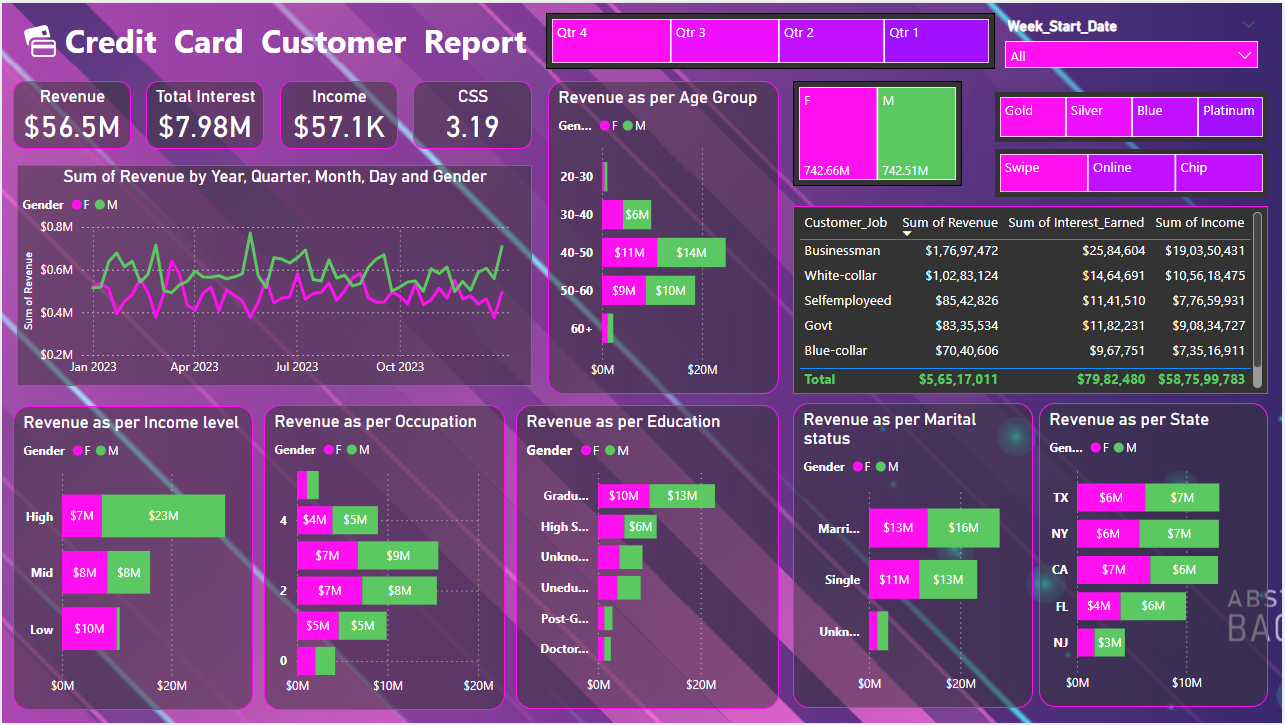

Layout of this report page (visuals, bound fields, positions):
{"tool":"powerbi","page":{"name":"my_cc_customer","canvas":[1280,720],"ordinal":4},"visuals":[{"type":"textbox","box":[10.6,9.8,519.6,55.9],"z":0},{"type":"barChart","title":"Revenue as per Income level","fields":{"Category":["cust_detail.Income_Group"],"Y":["Sum(cc_detail.Revenue)"],"Series":["cust_detail.Gender"]},"box":[11,403.1,240.4,304.3],"z":1000},{"type":"tableEx","fields":{"Values":["cust_detail.Customer_Job","Sum(cc_detail.Revenue)","Sum(cc_detail.Interest_Earned)","Sum(cust_detail.Income)"]},"box":[791.1,202.5,474.9,188.6],"z":2000},{"type":"card","title":"Revenue","fields":{"Values":["Sum(cc_detail.Revenue)"]},"box":[10.6,78,117.9,68.3],"z":3000},{"type":"card","title":"Total Interest","fields":{"Values":["Sum(cc_detail.Interest_Earned)"]},"box":[144.2,78,117.9,68.3],"z":4000},{"type":"card","title":"Income","fields":{"Values":["Avg(cust_detail.Income)"]},"box":[277.8,78,117.9,68.3],"z":5000},{"type":"card","title":"CSS","fields":{"Values":["Avg(cust_detail.Cust_Satisfaction_Score)"]},"box":[411.4,78,118.8,68.3],"z":6000},{"type":"slicer","fields":{"Values":["cc_detail.Week_Start_Date"]},"box":[993.1,9.8,273.1,76.3],"z":7000},{"type":"treemap","fields":{"Group":["cc_detail.Week_Start_Date.Variation.Date Hierarchy.Quarter"],"Values":["Avg(cust_detail.Client_Num)"]},"box":[543.7,10,448.9,55.9],"z":8000},{"type":"treemap","fields":{"Group":["cust_detail.Gender"],"Values":["Avg(cust_detail.Client_Num)"]},"box":[791.1,77.8,168.6,104.8],"z":9000},{"type":"treemap","fields":{"Group":["cc_detail.Card_Category"],"Values":["Avg(cust_detail.Client_Num)"]},"box":[992.7,88.8,273.4,49.9],"z":10000},{"type":"treemap","fields":{"Values":["Avg(cust_detail.Client_Num)"],"Group":["cc_detail.Use_Chip"]},"box":[992.7,145.7,273.4,47.9],"z":11000},{"type":"lineChart","fields":{"Category":["cc_detail.Week_Start_Date.Variation.Date Hierarchy.Year","cc_detail.Week_Start_Date.Variation.Date Hierarchy.Quarter","cc_detail.Week_Start_Date.Variation.Date Hierarchy.Month","cc_detail.Week_Start_Date.Variation.Date Hierarchy.Day"],"Y":["Sum(cc_detail.Revenue)"],"Series":["cust_detail.Gender"]},"box":[15.1,162.3,515.2,220.8],"z":12000},{"type":"barChart","title":"Revenue as per Age Group","fields":{"Category":["cust_detail.Age_Group"],"Y":["Sum(cc_detail.Revenue)"],"Series":["cust_detail.Gender"]},"box":[545.7,77.8,231.5,313.3],"z":13000},{"type":"barChart","title":"Revenue as per Occupation","fields":{"Category":["cust_detail.Dependent_Count"],"Y":["Sum(cc_detail.Revenue)"],"Series":["cust_detail.Gender"]},"box":[262.4,402.1,240.4,305.3],"z":14000},{"type":"barChart","title":"Revenue as per Education","fields":{"Category":["cust_detail.Education_Level"],"Y":["Sum(cc_detail.Revenue)"],"Series":["cust_detail.Gender"]},"box":[513.8,402.1,263.4,304.3],"z":15000},{"type":"barChart","title":"Revenue as per State","fields":{"Category":["cust_detail.State_cd"],"Y":["Sum(cc_detail.Revenue)"],"Series":["cust_detail.Gender"]},"box":[1037.4,399.9,228.8,304.1],"z":16000},{"type":"barChart","title":"Revenue as per Marital status","fields":{"Category":["cust_detail.Marital_Status"],"Y":["Sum(cc_detail.Revenue)"],"Series":["cust_detail.Gender"]},"box":[791.1,400.1,239.4,305.3],"z":17000},{"type":"actionButton","box":[17.7,17.7,52.3,39.9],"z":18000}]}

Visuals, with their boxes in screenshot pixels (x1, y1, x2, y2), scaled from the page's 1280x720 canvas onto the 1285x725 screenshot:
textbox: 11 10 532 66
"Revenue as per Income level" barChart: 11 406 252 712
tableEx - cust_detail.Customer_Job x Sum(cc_detail.Revenue): 794 204 1271 394
"Revenue" card: 11 79 129 147
"Total Interest" card: 145 79 263 147
"Income" card: 279 79 397 147
"CSS" card: 413 79 532 147
slicer - cc_detail.Week_Start_Date: 997 10 1271 87
treemap - cc_detail.Week_Start_Date.Variation.Date Hierarchy.Quarter x Avg(cust_detail.Client_Num): 546 10 996 66
treemap - cust_detail.Gender x Avg(cust_detail.Client_Num): 794 78 963 184
treemap - cc_detail.Card_Category x Avg(cust_detail.Client_Num): 997 89 1271 140
treemap - Avg(cust_detail.Client_Num) x cc_detail.Use_Chip: 997 147 1271 195
lineChart - cc_detail.Week_Start_Date.Variation.Date Hierarchy.Year x cc_detail.Week_Start_Date.Variation.Date Hierarchy.Quarter: 15 163 532 386
"Revenue as per Age Group" barChart: 548 78 780 394
"Revenue as per Occupation" barChart: 263 405 505 712
"Revenue as per Education" barChart: 516 405 780 711
"Revenue as per State" barChart: 1041 403 1271 709
"Revenue as per Marital status" barChart: 794 403 1035 710
actionButton: 18 18 70 58
